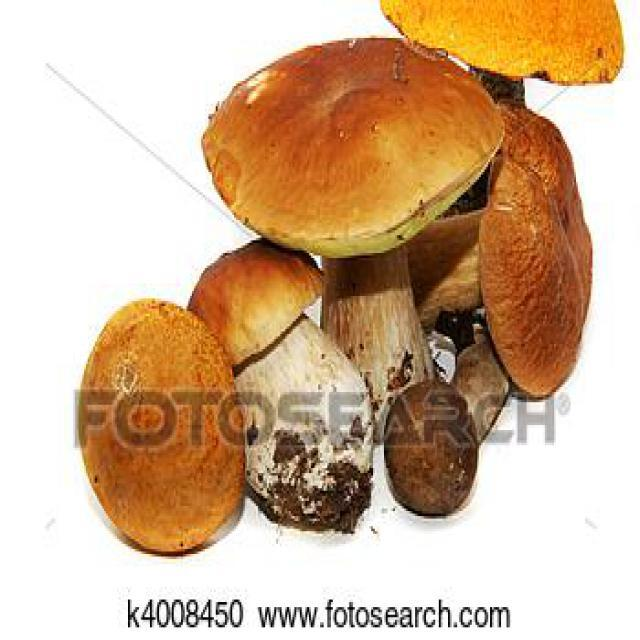Boletus: (205, 44, 502, 421), (396, 109, 594, 397), (184, 239, 370, 528), (81, 297, 245, 557), (379, 0, 623, 111)
